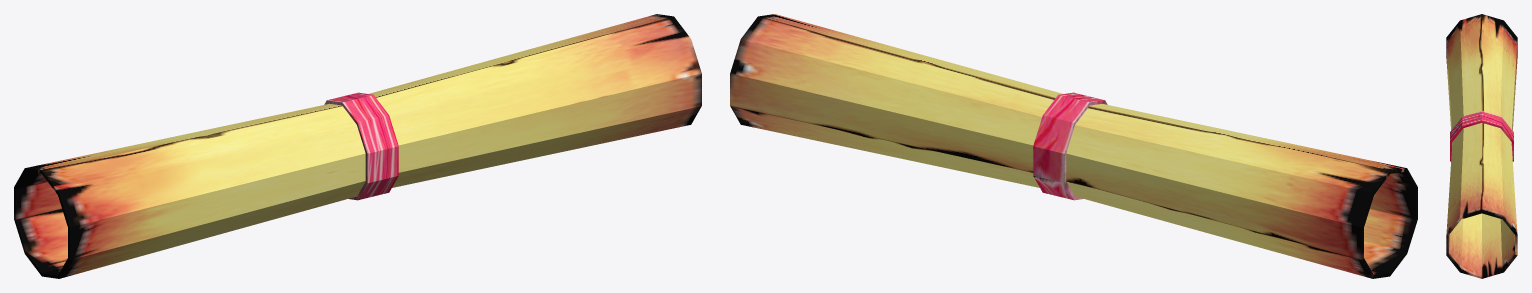
The model's file is contract01.fbx.
3 views of the same model, side by side, from view 1: azimuth 30°, elevation 25°; view 2: azimuth 150°, elevation 25°; view 3: azimuth 270°, elevation 25° (orthographic). The views are drawn at different scales.
Visible parts, largest first — view 1: pCylinder1, pCylinder2; view 2: pCylinder1, pCylinder2; view 3: pCylinder1, pCylinder2.
Boxes of the visible parts, x1=… form: pCylinder1: x1=14, y1=14, x2=701, y2=278; pCylinder2: x1=324, y1=92, x2=398, y2=200; pCylinder1: x1=730, y1=14, x2=1417, y2=278; pCylinder2: x1=1033, y1=92, x2=1107, y2=200; pCylinder1: x1=1446, y1=14, x2=1517, y2=278; pCylinder2: x1=1450, y1=111, x2=1513, y2=161.
Size of the model in its own units: 10 by 1.6 by 1.52.
1 material, 1 textured.
